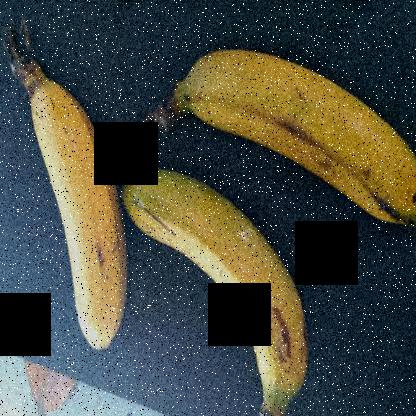freshripe: (13, 59, 131, 358)
ripe: (136, 166, 331, 415), (182, 46, 407, 254)
